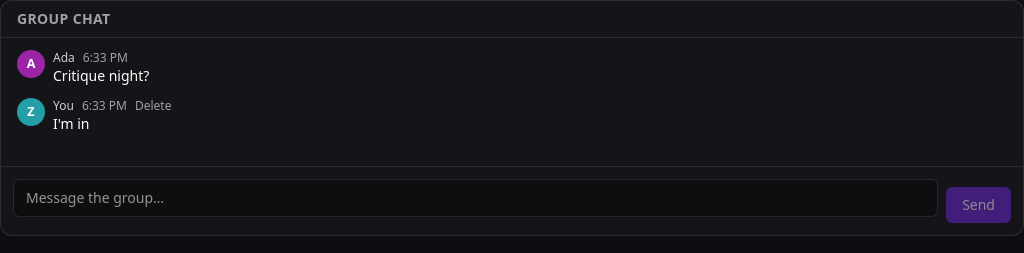
Test: GroupChat › lets you delete your own message but not others' (unless you moderate)
The width and height of the screenshot is (1024, 253).
Expected: the text "I'm in" is shown, [53,114,90,133]
Click the button with aria-label "Delete message": [153, 106] box [135,98,172,114]
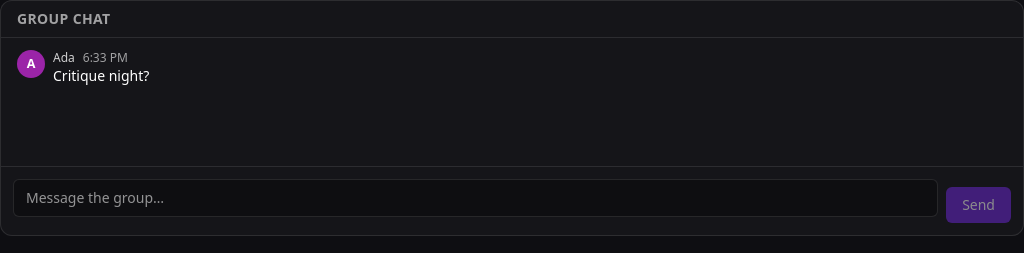
Now the text "I'm in" is gone
